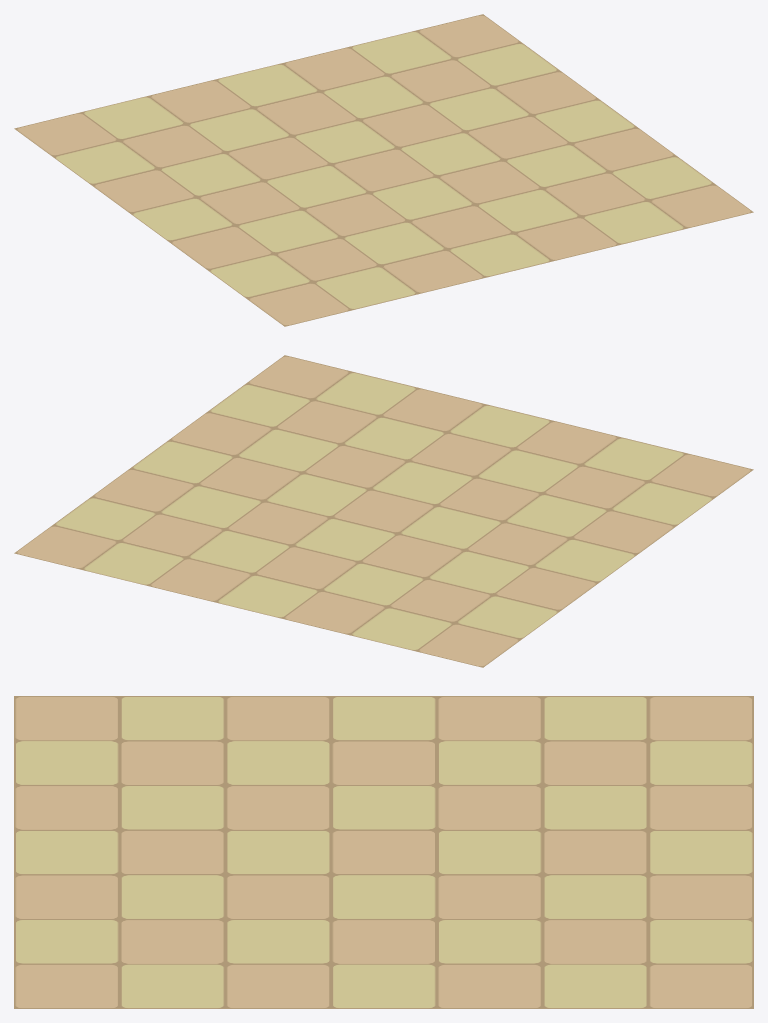
The model's file is SquareStage.glb.
3 renders of one model, top to bottom at view 1: azimuth 30°, elevation 25°; view 2: azimuth 150°, elevation 25°; view 3: azimuth 270°, elevation 25°, orthographic. The views are drawn at different scales.
Visible parts, largest first — view 1: pPlane15; view 2: pPlane15; view 3: pPlane15.
Part boxes in pixels (x1,y1,x2,y2): pPlane15: (14,14,753,326); pPlane15: (14,355,753,667); pPlane15: (14,696,753,1008).
Bounding box in the file's own units: 140 × 0 × 140.
1 material, 1 textured.
